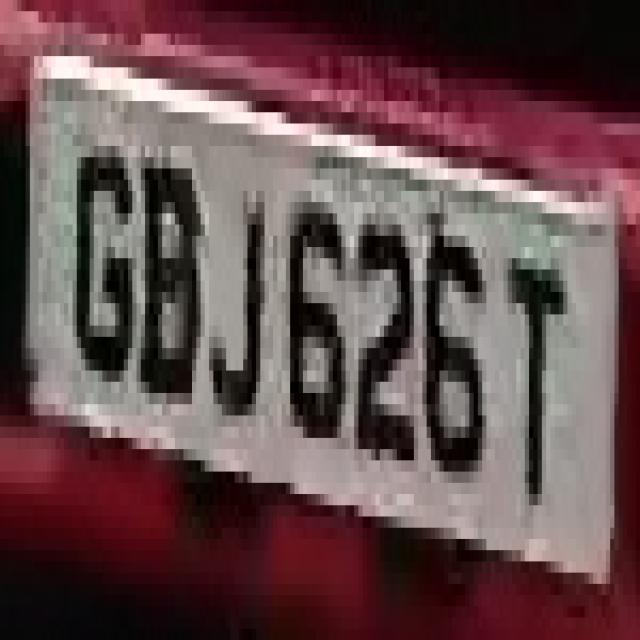2: (346, 157, 418, 472)
6: (273, 157, 350, 460), (410, 214, 490, 472)
B: (136, 112, 205, 438)
G: (68, 101, 137, 393)
J: (201, 135, 273, 438)
T: (486, 202, 576, 528)
